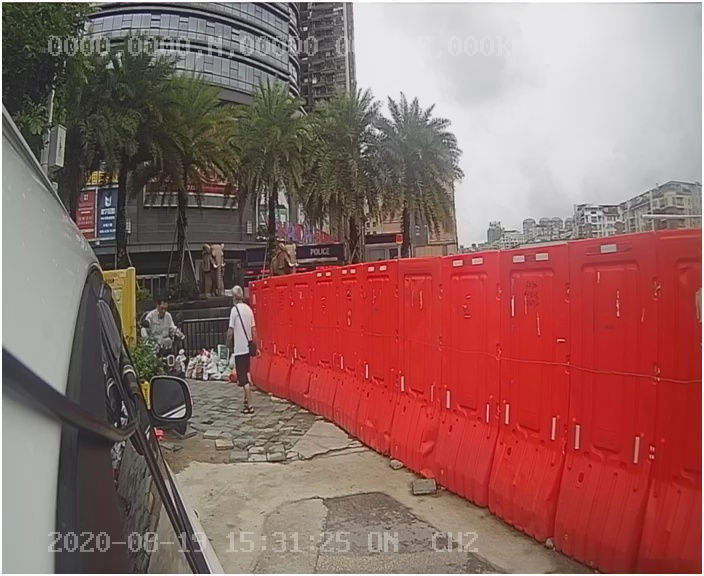person: (219, 283, 276, 415)
